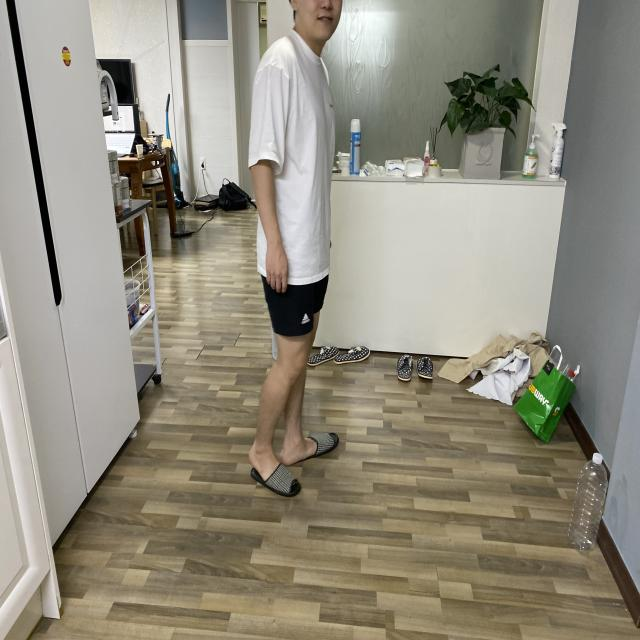no-boots: (238, 447, 302, 513), (281, 427, 350, 460)
